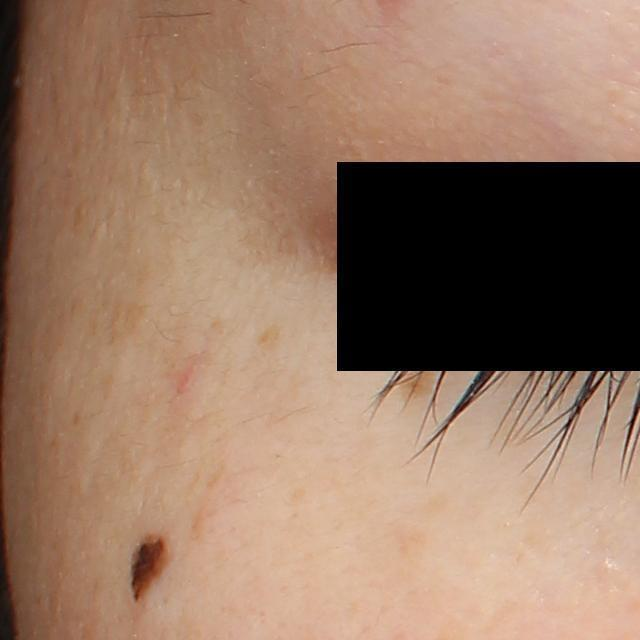melasma: (395, 358, 436, 405), (257, 325, 284, 348)
nevus: (125, 529, 184, 608)
